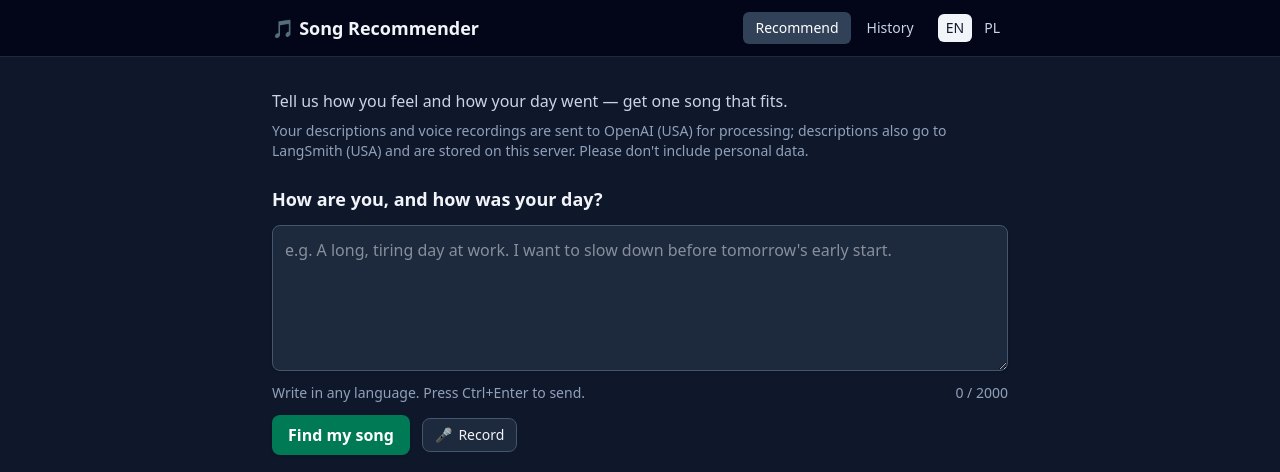
voice input › uses the format the browser supports, e.g. mp4 in Safari
Click the button "🎤 Record": point(470, 435) [422,418,517,452]
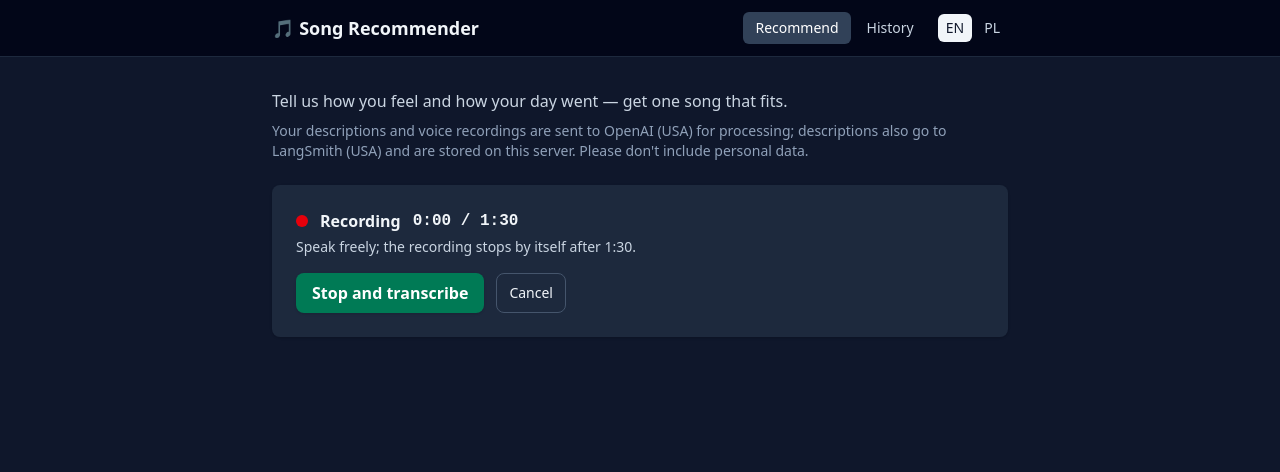
Now the text "0:00 / 1:30" is shown, box [413,209,518,233]
Click the button "Stop and transcribe": point(390, 293) [296,273,484,313]
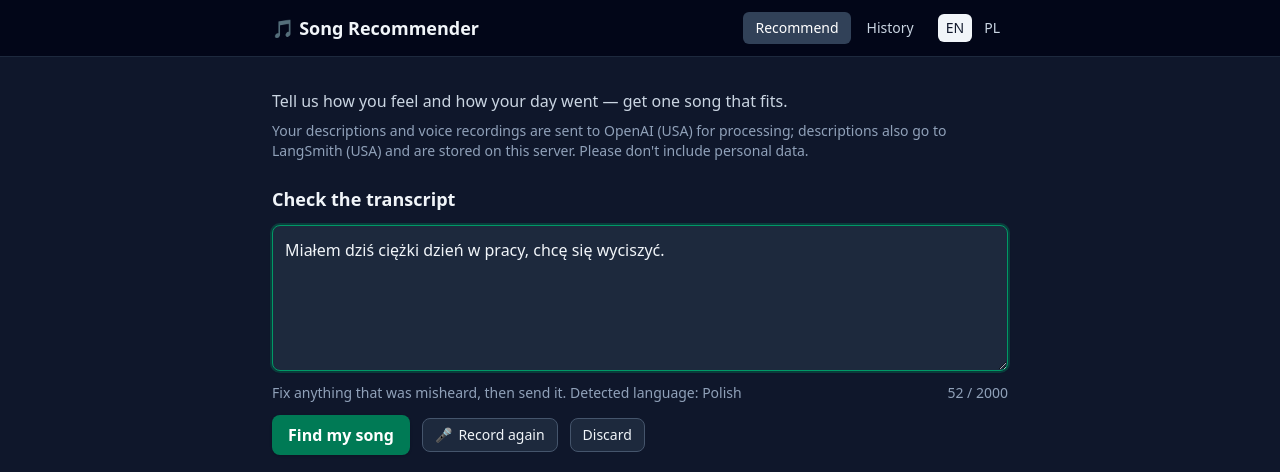
Now the text box labelled "Check the transcript" is shown, box [272,225,1008,371]
